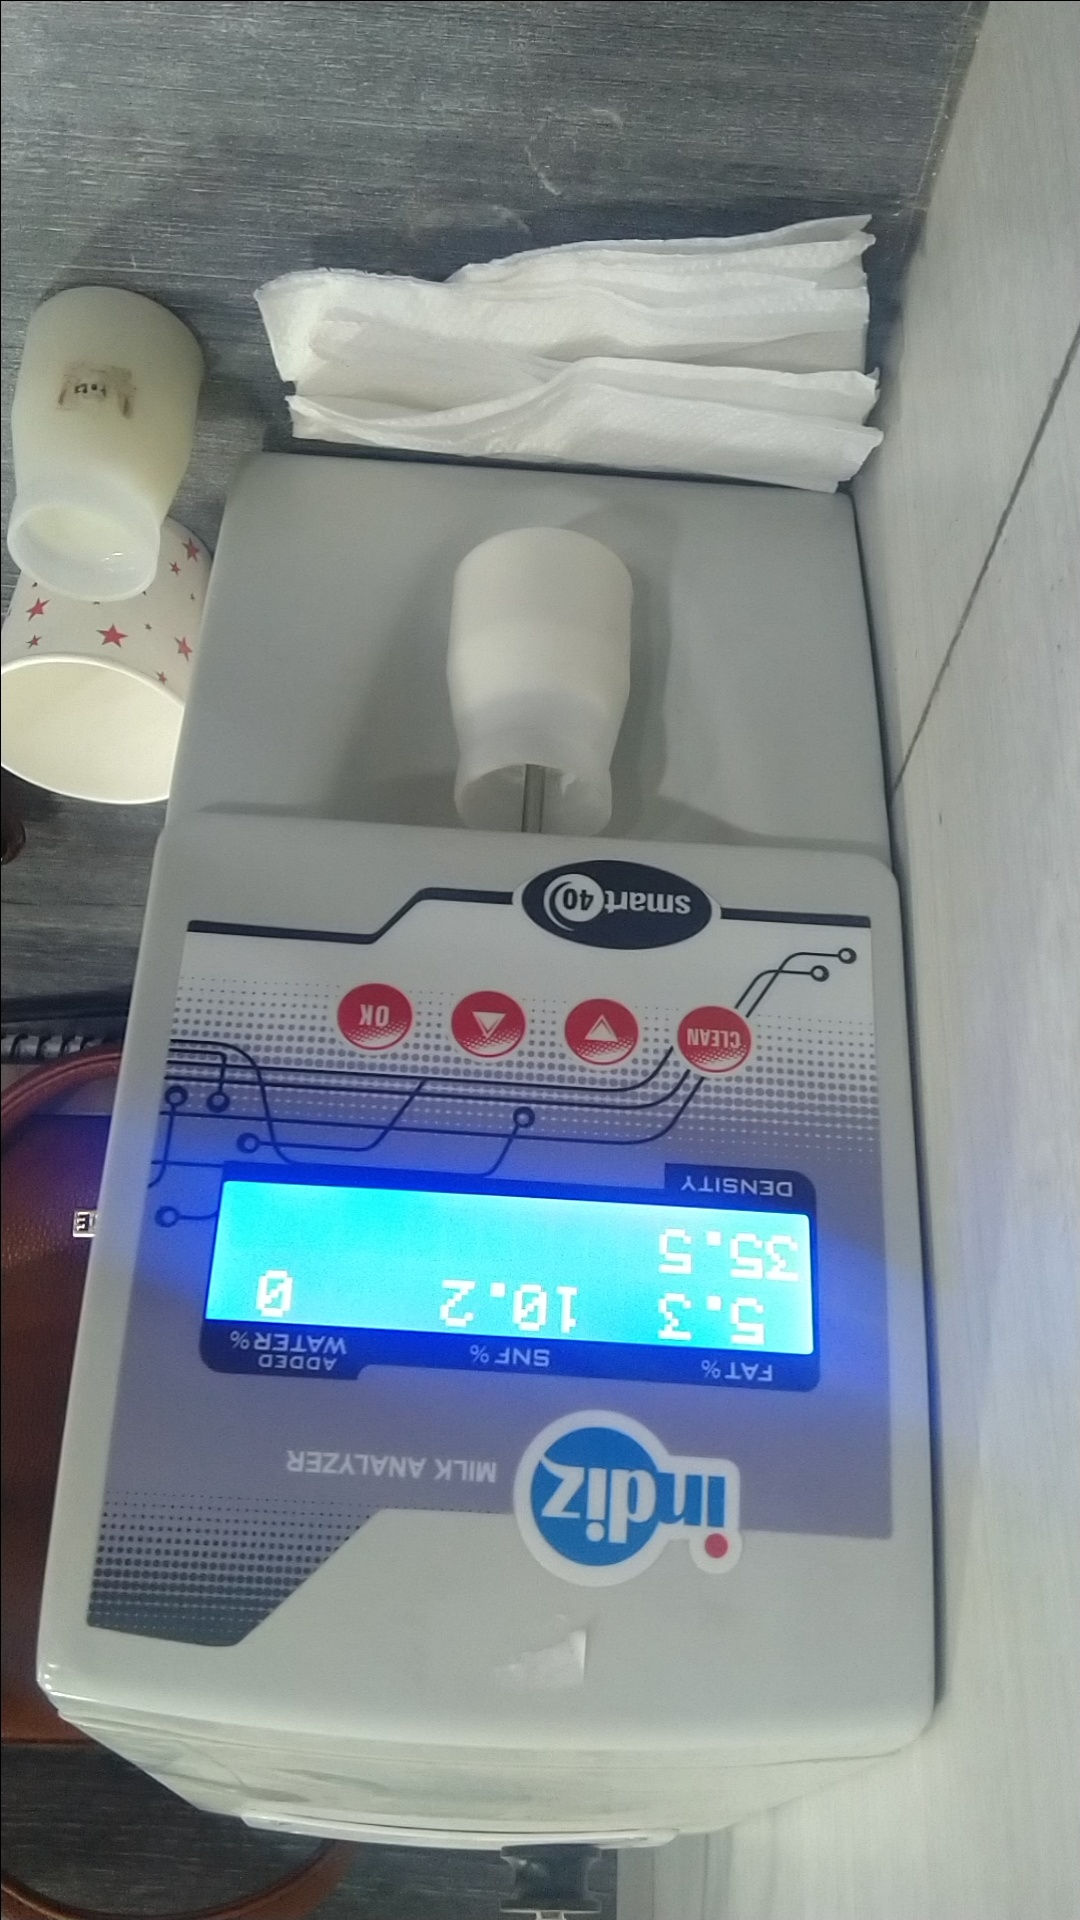lcd: (200, 1154, 815, 1362)
